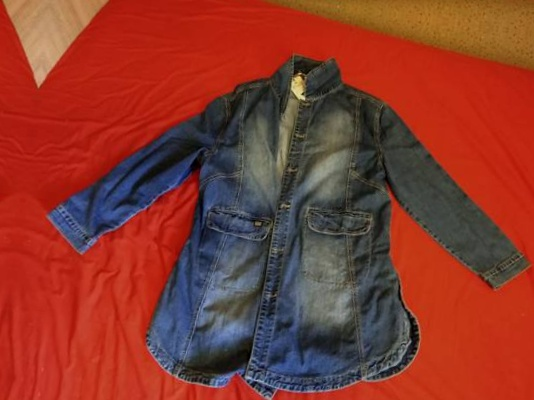Blazer: (20, 29, 534, 400), (0, 0, 26, 364), (0, 389, 496, 400)
